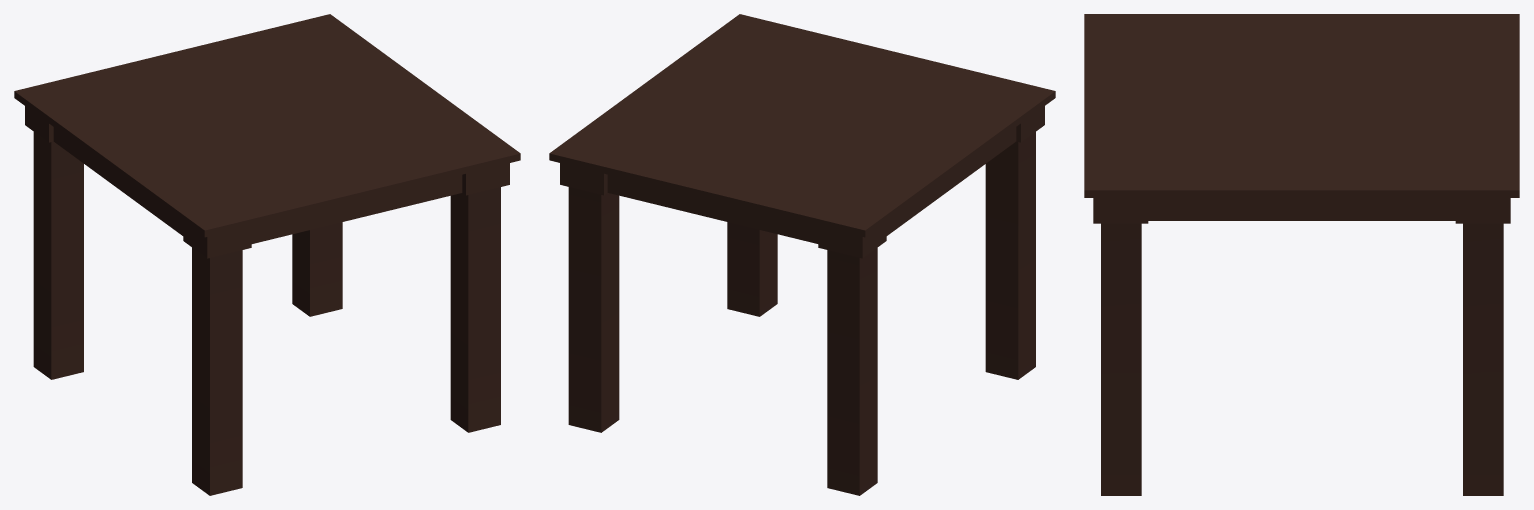
File: table.fbx
3 renders of one model, left to right at view 1: azimuth 30°, elevation 25°; view 2: azimuth 150°, elevation 25°; view 3: azimuth 270°, elevation 25°, orthographic. The views are drawn at different scales.
Parts seen in each view (by area): view 1: table1; view 2: table1; view 3: table1.
Part boxes in pixels (box(x1,y1,x2,y2)): table1: box(14, 14, 520, 495); table1: box(549, 14, 1055, 495); table1: box(1084, 14, 1519, 495).
Bounding box in the file's own units: 1.23 × 1.01 × 1.28.
